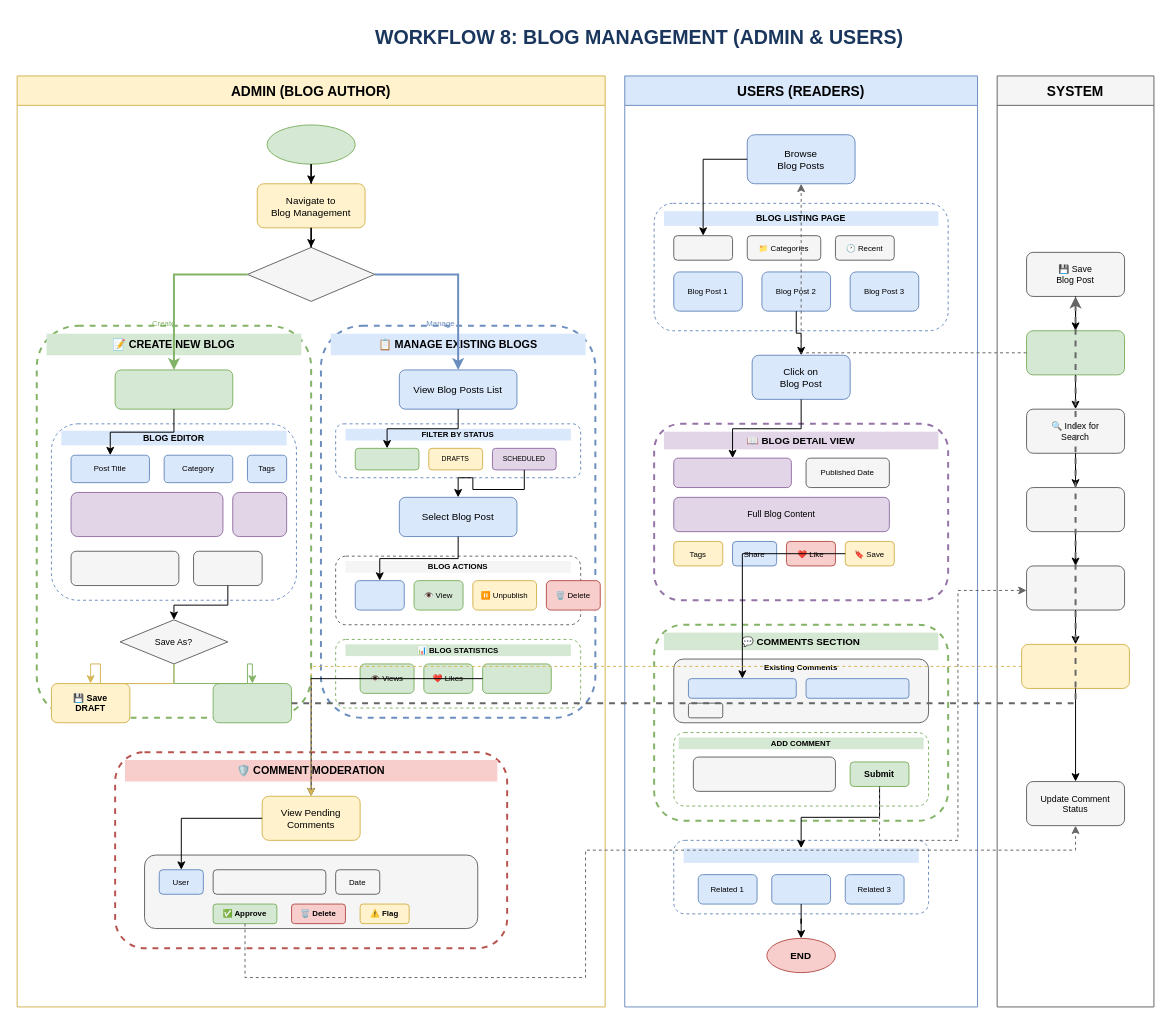
Some shapes in this 1171 by 1024 pixel diagram are drawn without their labels. The box of each missing label's shape, as (x1, y1, x2, y2) in pixels:
Click "Create New Post": (114, 369, 233, 409)
Comment Content: (212, 869, 326, 894)
Post Title & Author: (673, 457, 791, 488)
PUBLISHED: (354, 447, 419, 470)
Related 2: (771, 874, 831, 904)
Reply: (687, 702, 723, 718)
Rich Text Editor (Blog Content): (70, 491, 223, 537)
Schedule (Optional): (193, 550, 262, 586)
Select Action: (246, 246, 375, 301)
SEO Settings (Meta Description): (70, 550, 179, 586)
START: (266, 124, 355, 164)
Thumbnail Image: (232, 491, 287, 537)
User1: Great article!: (687, 678, 796, 698)
User2: Very helpful: (805, 678, 909, 698)
Write your comment...: (692, 756, 835, 791)
✅ PUBLISH Now: (212, 683, 292, 723)
✏️ Edit: (354, 580, 404, 610)
🌐 Publish to Public Site: (1026, 330, 1125, 375)
💬 Comments: (482, 663, 551, 693)
💬 Store Comment: (1026, 565, 1125, 610)
📊 Track Views/Clicks: (1026, 487, 1125, 532)
📌 RELATED POSTS: (683, 848, 918, 862)
🔍 Search: (673, 235, 733, 260)
🔔 Notify Admin for Moderation: (1021, 643, 1129, 688)
